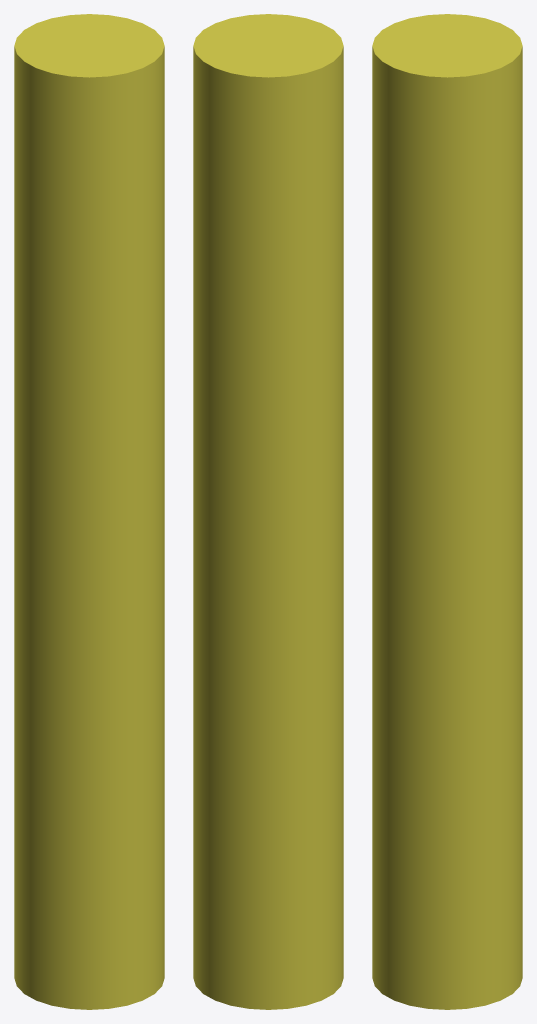
The model's file is jp_bedroom_marker_highlight_body.glb.
3 views of the same model, side by side, from view 1: azimuth 30°, elevation 25°; view 2: azimuth 150°, elevation 25°; view 3: azimuth 270°, elevation 25° (orthographic).
Visible parts, largest first — view 1: marker_body; view 2: marker_body; view 3: marker_body.
Part boxes in pixels (left/top/right/bottom): marker_body: left=14, top=14, right=164, bottom=1009; marker_body: left=193, top=14, right=343, bottom=1009; marker_body: left=372, top=14, right=522, bottom=1009.
Size of the model in its own units: 0.0113 by 0.077 by 0.0113.
